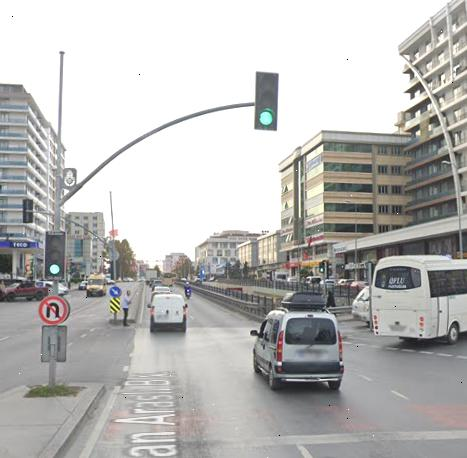greenlight: (256, 68, 280, 132), (43, 230, 64, 281), (317, 260, 325, 273)
